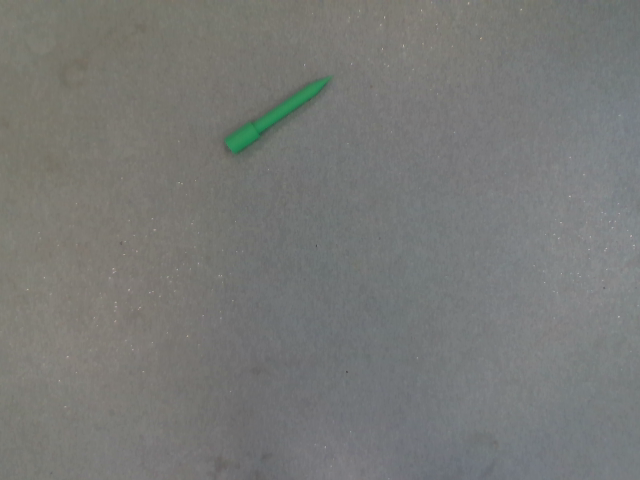Probe: (219, 66, 336, 159)
